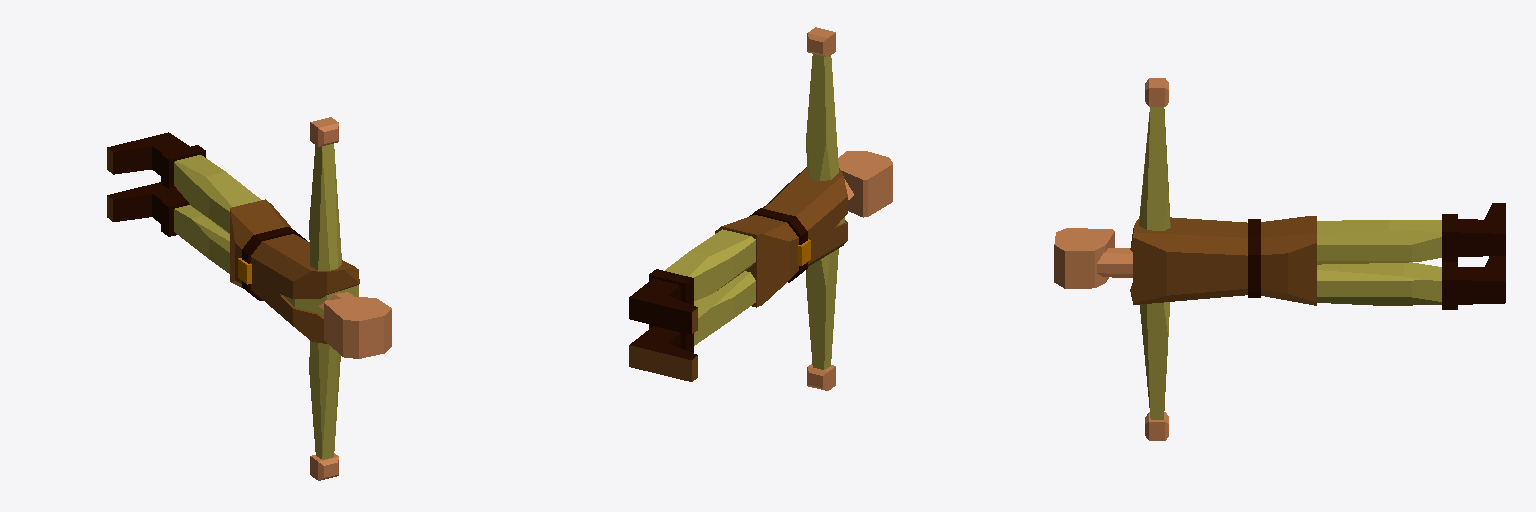
File: Peasant.obj
The picture shows the model from 3 angles: view 1: azimuth 30°, elevation 25°; view 2: azimuth 150°, elevation 25°; view 3: azimuth 270°, elevation 25°; orthographic projection.
Parts seen in each view (by area): view 1: Untitled_ID2; view 2: Untitled_ID2; view 3: Untitled_ID2.
Part boxes in pixels (bbox=[...]): Untitled_ID2: bbox=[107, 117, 391, 480]; Untitled_ID2: bbox=[629, 27, 892, 390]; Untitled_ID2: bbox=[1054, 78, 1505, 440].
Bounding box in the file's own units: 0.315 × 1.46 × 1.69.